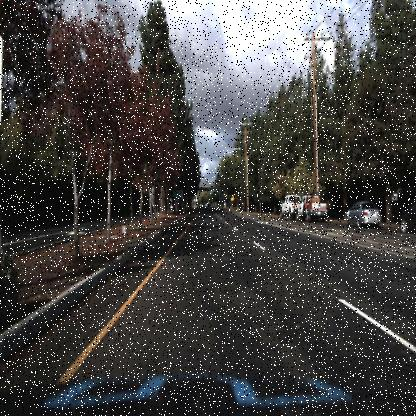car: (343, 199, 384, 229), (344, 200, 382, 223), (295, 196, 328, 220), (278, 193, 301, 221)
